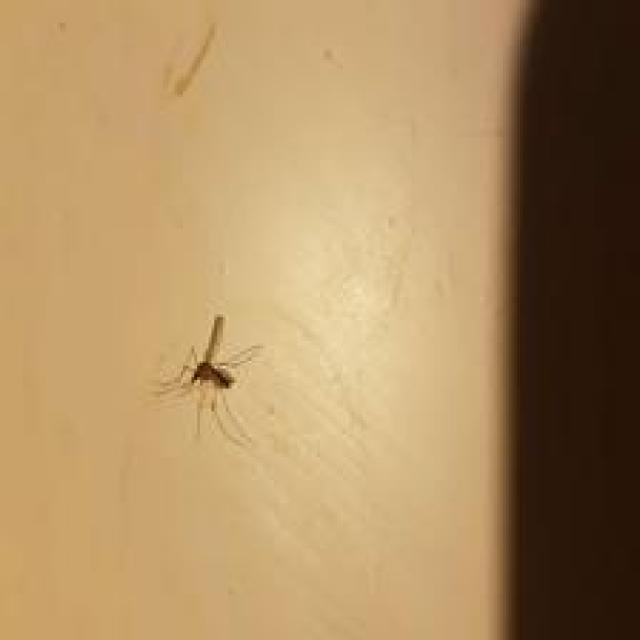Culex: (154, 313, 266, 447)
